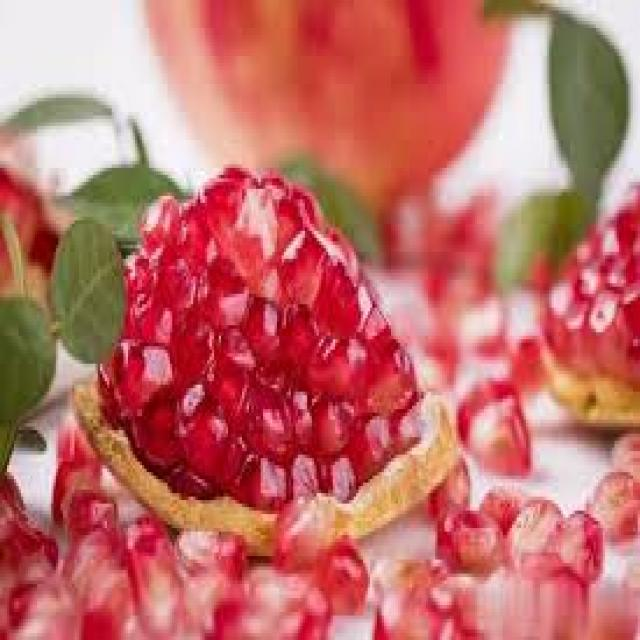organic waste: (70, 164, 454, 549), (137, 0, 517, 210), (481, 0, 628, 213), (538, 178, 638, 424), (0, 108, 58, 322), (51, 164, 184, 245), (54, 224, 124, 360), (172, 378, 245, 486), (0, 294, 56, 419), (456, 378, 528, 472), (0, 91, 109, 147), (230, 374, 294, 465), (372, 556, 442, 637), (12, 549, 76, 637), (249, 570, 328, 637), (270, 490, 335, 570), (474, 563, 538, 637), (300, 332, 366, 402), (202, 325, 254, 413), (547, 507, 603, 588), (430, 570, 496, 637), (132, 549, 182, 637), (133, 392, 184, 476), (112, 336, 170, 409), (123, 248, 170, 336), (363, 332, 414, 409), (310, 252, 356, 336), (196, 259, 249, 329), (316, 539, 366, 612), (586, 465, 638, 535), (123, 507, 170, 584), (505, 496, 561, 560), (0, 504, 54, 570), (166, 304, 210, 385), (279, 224, 326, 297), (174, 521, 244, 570), (84, 563, 130, 637), (588, 570, 638, 637), (277, 294, 314, 384), (589, 286, 624, 378), (347, 406, 391, 479), (233, 451, 286, 511), (435, 510, 498, 560), (538, 570, 584, 637), (58, 486, 114, 539), (379, 395, 422, 462), (0, 164, 37, 238), (242, 290, 279, 364), (54, 462, 98, 524), (384, 196, 426, 259), (177, 185, 212, 259), (140, 192, 186, 248), (126, 287, 170, 343), (544, 276, 575, 354), (198, 175, 247, 224), (54, 402, 96, 458), (151, 248, 193, 304), (356, 273, 389, 343), (310, 392, 349, 451), (428, 455, 466, 514), (421, 322, 454, 384), (284, 385, 312, 451), (277, 185, 316, 231), (470, 294, 500, 353), (566, 294, 591, 364), (168, 462, 210, 500), (479, 486, 516, 528), (600, 214, 631, 262), (512, 332, 540, 385), (463, 241, 491, 294), (610, 427, 638, 479), (26, 224, 58, 269), (316, 444, 347, 486), (328, 224, 354, 262), (600, 252, 628, 287), (0, 468, 23, 507), (219, 161, 251, 189), (624, 280, 638, 339), (575, 227, 600, 259), (424, 262, 444, 301), (258, 171, 286, 196), (577, 262, 601, 290), (556, 245, 575, 280), (100, 360, 112, 409), (626, 238, 638, 280), (626, 189, 638, 227)
